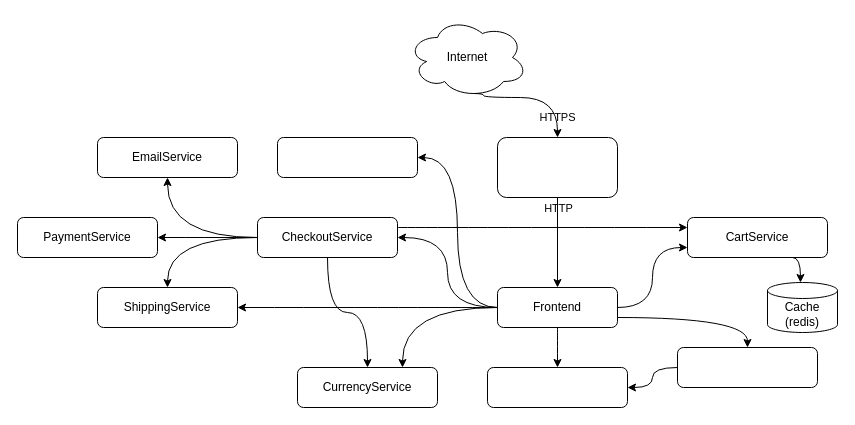
Image size: 855x425. Some labels were removed from this diagram. The box of each missing label's shape, as (x1, y1, x2, y2) in pixels:
AdService: (276, 136, 418, 178)
Ambassador Edge Stack: (496, 136, 618, 198)
ProductCatalogService: (486, 366, 628, 408)
RecomendationService: (676, 346, 818, 388)
